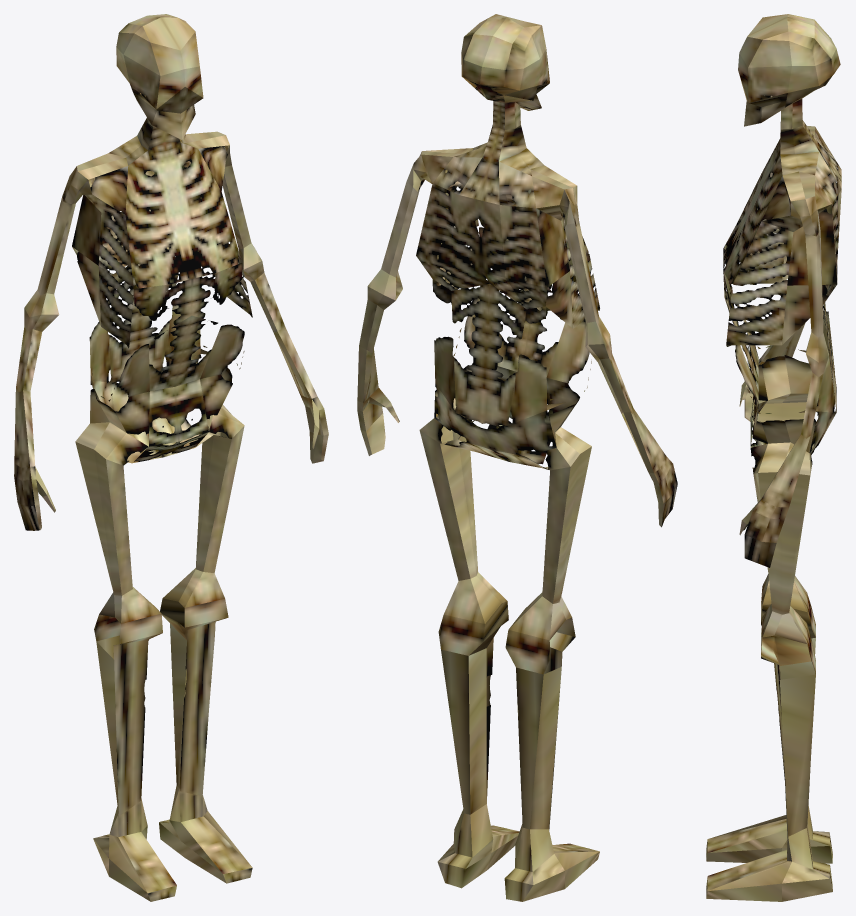
The model's file is Skeleton1.fbx.
3 renders of one model, left to right at view 1: azimuth 30°, elevation 25°; view 2: azimuth 150°, elevation 25°; view 3: azimuth 270°, elevation 25°, orthographic.
Visible parts, largest first — view 1: Ps1_Skeleton; view 2: Ps1_Skeleton; view 3: Ps1_Skeleton.
Boxes of the visible parts, x1,y1,x2,y2 form: Ps1_Skeleton: (14,14,328,901); Ps1_Skeleton: (357,14,677,901); Ps1_Skeleton: (706,14,841,901).
Size of the model in its own units: 183 by 495 by 70.9.
